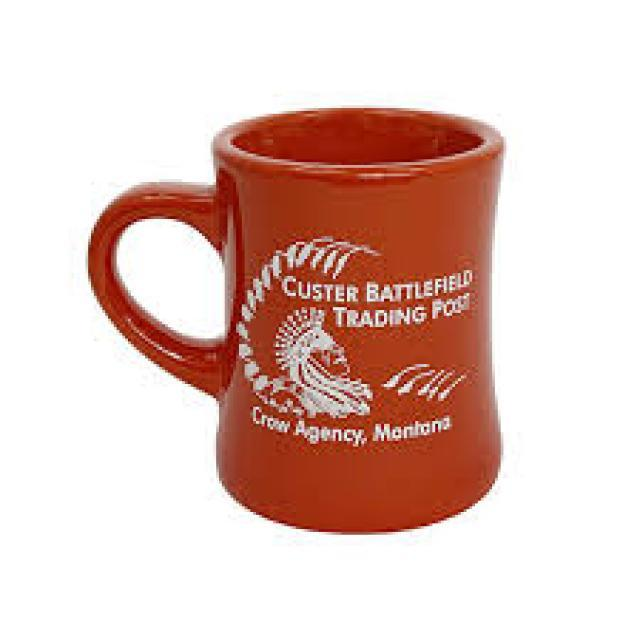taza: (85, 103, 505, 536)
